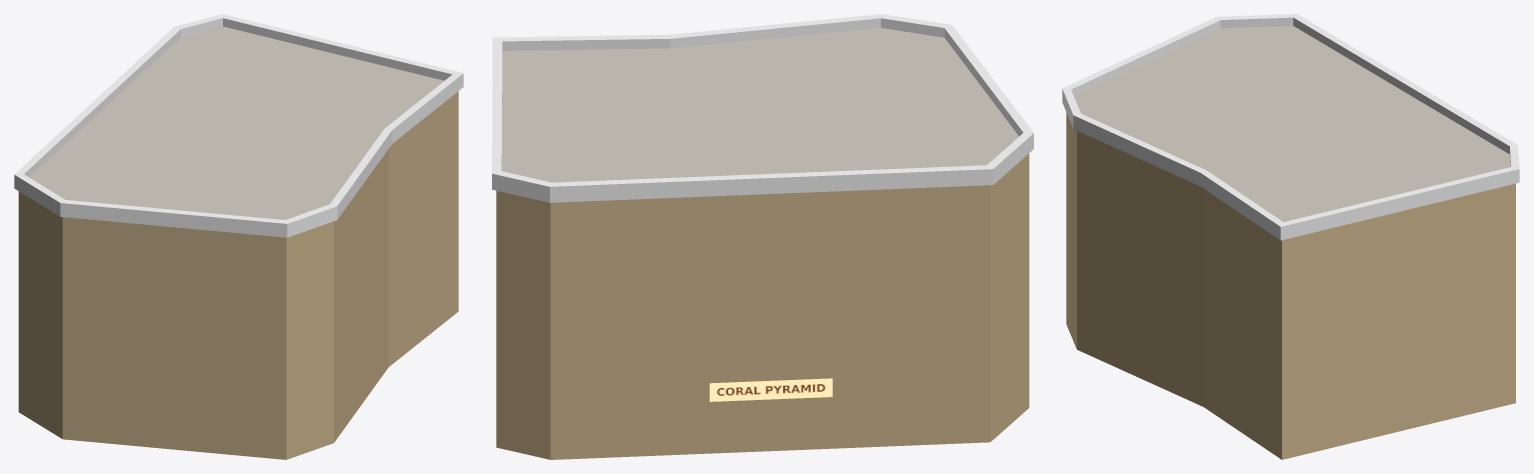
File: coralpyramid.glb
The picture shows the model from 3 angles, left to right: view 1: azimuth 30°, elevation 25°; view 2: azimuth 150°, elevation 25°; view 3: azimuth 270°, elevation 25°; orthographic projection. The views are drawn at different scales.
Parts seen in each view (by area): view 1: coralpyramid_lod0; view 2: coralpyramid_lod0; view 3: coralpyramid_lod0.
Boxes of the visible parts, x1,y1,x2,y2 form: coralpyramid_lod0: (14,14,463,459); coralpyramid_lod0: (492,14,1033,459); coralpyramid_lod0: (1062,14,1519,459).
Size of what is drawn, in the model's own units: 33.4 by 17.2 by 30.32.
Materials: 5 (2 with a texture image).
